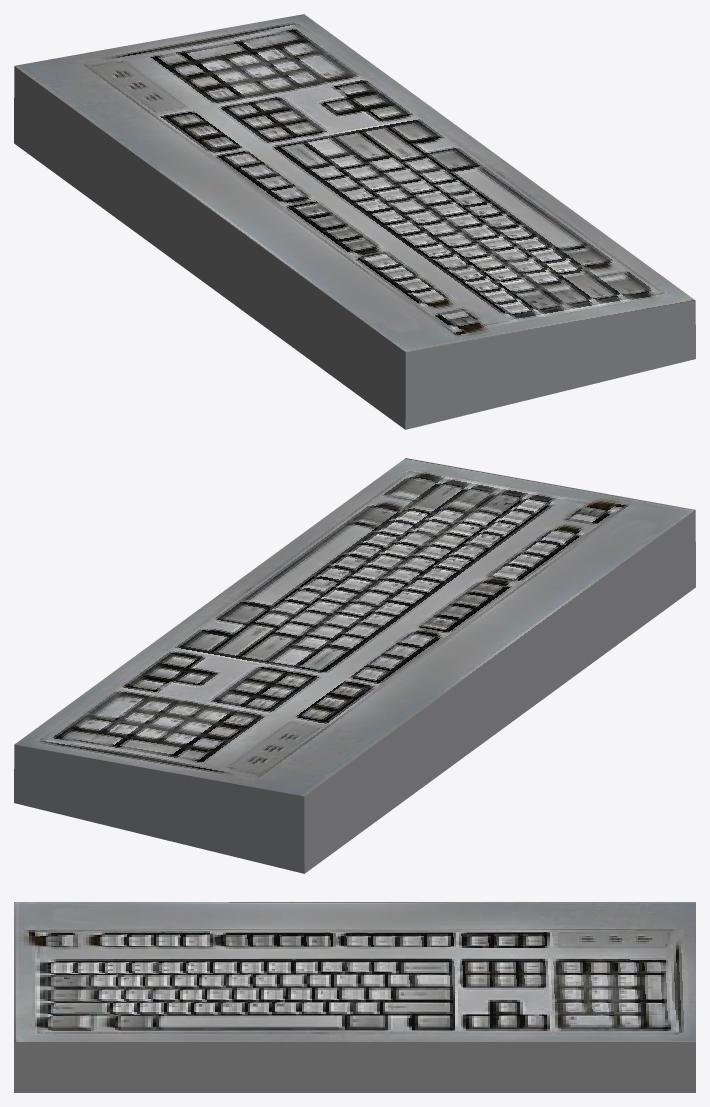
Rendered from keyboard.glb.
3 renders of one model, top to bottom at view 1: azimuth 30°, elevation 25°; view 2: azimuth 150°, elevation 25°; view 3: azimuth 270°, elevation 25°, orthographic. The views are drawn at different scales.
Parts seen in each view (by area): view 1: Cube; view 2: Cube; view 3: Cube.
Boxes of the visible parts, left/top/right/bottom form: Cube: left=14, top=14, right=695, bottom=429; Cube: left=14, top=458, right=695, bottom=873; Cube: left=14, top=902, right=695, bottom=1092.
Size of the model in its own units: 0.2101 by 0.0535 by 0.4902.
Materials: 1 (1 with a texture image).
